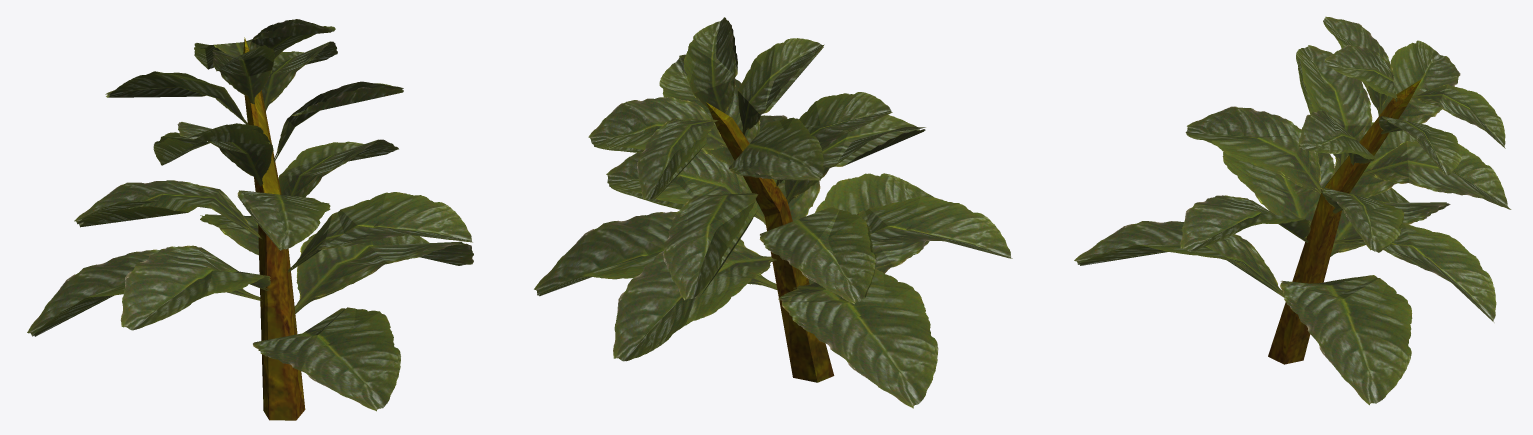
Rendered from bigleafplant_01_tall_bend.obj.
3 renders of one model, left to right at view 1: azimuth 30°, elevation 25°; view 2: azimuth 150°, elevation 25°; view 3: azimuth 270°, elevation 25°, orthographic. The views are drawn at different scales.
Parts seen in each view (by area): view 1: bigleafb64, bigleafb224; view 2: bigleafb64, bigleafb224; view 3: bigleafb64, bigleafb224.
Boxes of the visible parts, x1,y1,x2,y2 form: bigleafb64: [28, 23, 473, 420]; bigleafb224: [27, 19, 473, 411]; bigleafb64: [535, 22, 1010, 389]; bigleafb224: [534, 17, 1012, 408]; bigleafb64: [1075, 18, 1510, 380]; bigleafb224: [1074, 16, 1510, 405].
Size of what is drawn, in the model's own units: 2.31 by 1.85 by 2.28.
Materials: 1 (1 with a texture image).
